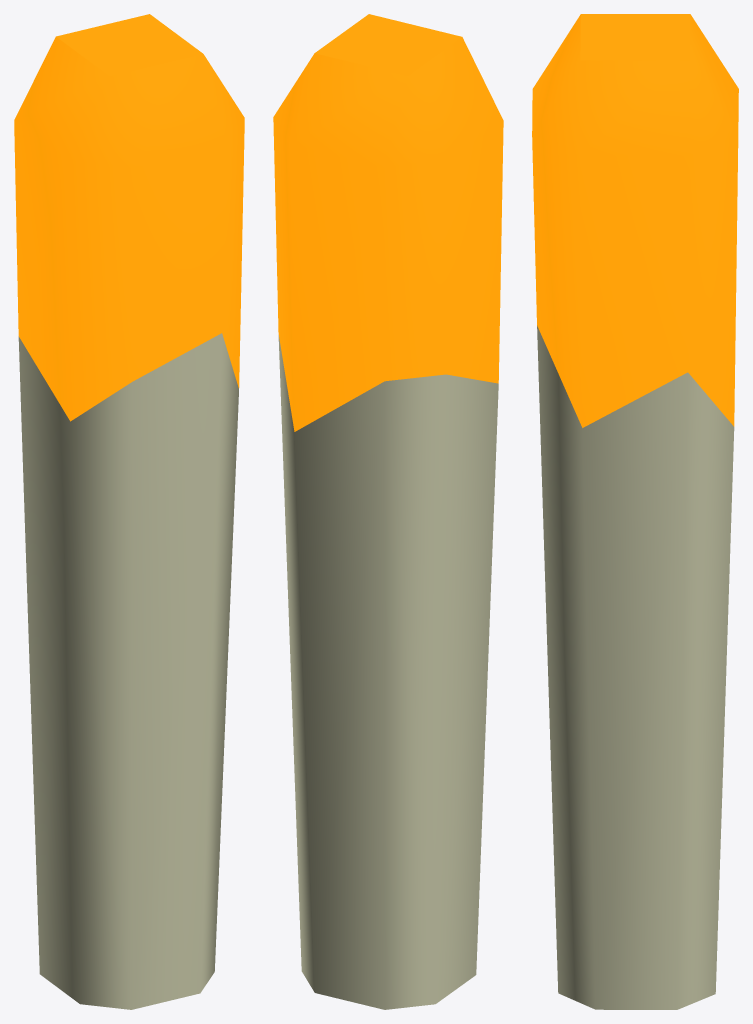
3 views of the same model, side by side, from view 1: azimuth 30°, elevation 25°; view 2: azimuth 150°, elevation 25°; view 3: azimuth 270°, elevation 25° (orthographic).
Parts seen in each view (by area): view 1: Capsule; view 2: Capsule; view 3: Capsule.
Part boxes in pixels (bbox=[...]): Capsule: bbox=[14, 14, 244, 1009]; Capsule: bbox=[273, 14, 503, 1009]; Capsule: bbox=[532, 14, 738, 1009].
Size of the model in its own units: 0.0644 by 0.3233 by 0.0644.
